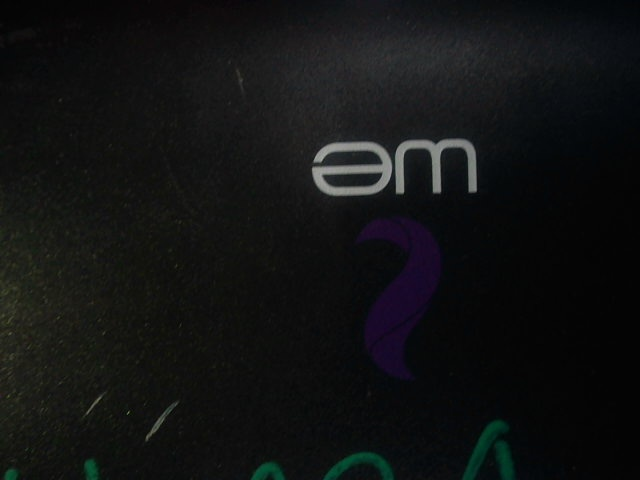AT_We: (307, 132, 486, 380)
